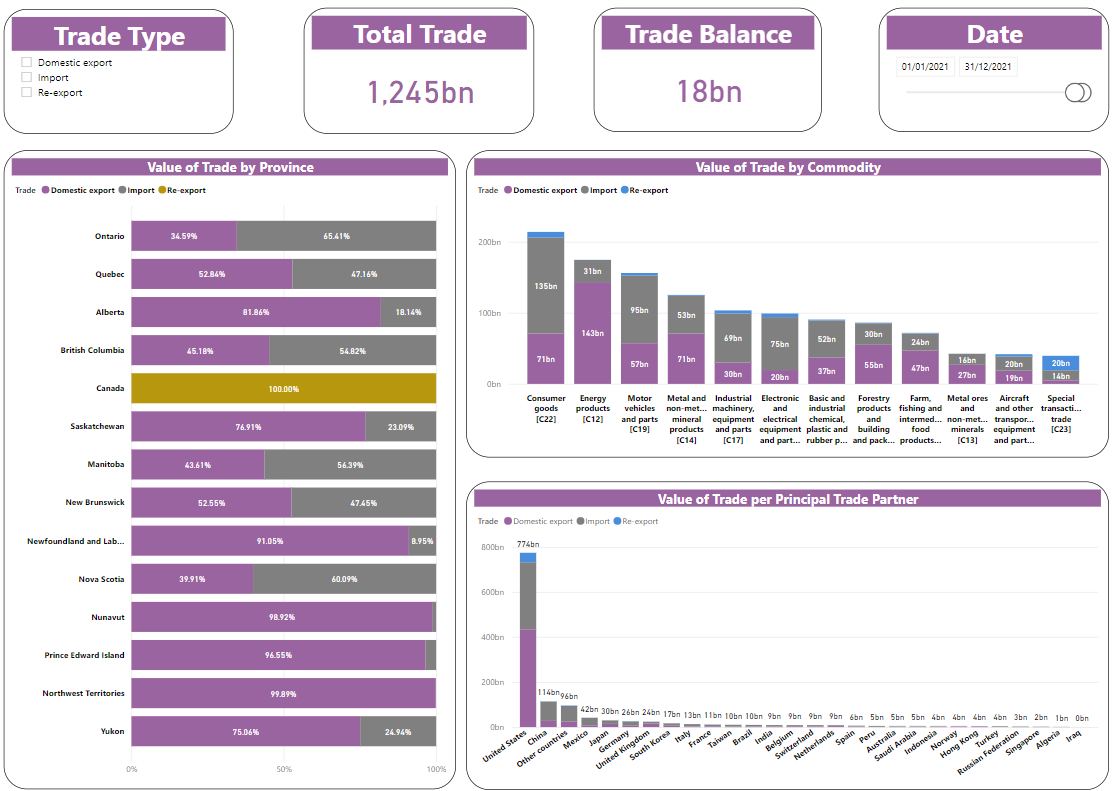

The page's visual inventory and layout, read from the dashboard file:
{"tool":"powerbi","page":{"name":"Canada Trade","canvas":[1460,1040],"ordinal":0},"visuals":[{"type":"card","title":"Total Trade","fields":{"Values":["Sum(Canada_Trade_Data.VALUE)"]},"box":[401.4,18.6,300,164.3],"z":0},{"type":"slicer","title":"Date","fields":{"Values":["Canada_Trade_Data.REF_DATE"]},"box":[1151.4,18.6,300,161.4],"z":1000},{"type":"columnChart","title":"Value of Trade per Trade Partner","fields":{"Category":["Canada_Trade_Data.Principal trading partners"],"Y":["Sum(Canada_Trade_Data.VALUE)"],"Series":["Canada_Trade_Data.Trade"]},"box":[613.7,634,836.5,401.6],"z":2000},{"type":"columnChart","title":"Value of Trade by Industry","fields":{"Category":["Canada_Trade_Data.North American Product Classification System (NAPCS)"],"Y":["Sum(Canada_Trade_Data.VALUE)"],"Series":["Canada_Trade_Data.Trade"]},"box":[613.7,203.8,836.5,400.4],"z":3000},{"type":"hundredPercentStackedBarChart","title":"Value of Trade Nationwide","fields":{"Category":["Canada_Trade_Data.GEO"],"Y":["Sum(Canada_Trade_Data.VALUE)"],"Series":["Canada_Trade_Data.Trade"]},"box":[10.7,203.8,588.7,831.8],"z":4000},{"type":"slicer","title":"Trade Type","fields":{"Values":["Canada_Trade_Data.Trade"]},"box":[10.7,19.1,299.1,162.1],"z":5000},{"type":"card","title":"Trade Balance","fields":{"Values":["Canada_Trade_Data.Trade Balance"]},"box":[780,18.6,297.1,161.4],"z":6000}]}

Visuals, with their boxes in screenshot pixels (x1, y1, x2, y2), scaled from the page's 1460x1040 canvas onto the 1113x791 screenshot:
"Total Trade" card: BBox(306, 14, 535, 139)
"Date" slicer: BBox(878, 14, 1106, 137)
"Value of Trade per Trade Partner" columnChart: BBox(468, 482, 1106, 788)
"Value of Trade by Industry" columnChart: BBox(468, 155, 1106, 460)
"Value of Trade Nationwide" hundredPercentStackedBarChart: BBox(8, 155, 457, 788)
"Trade Type" slicer: BBox(8, 15, 236, 138)
"Trade Balance" card: BBox(595, 14, 821, 137)
